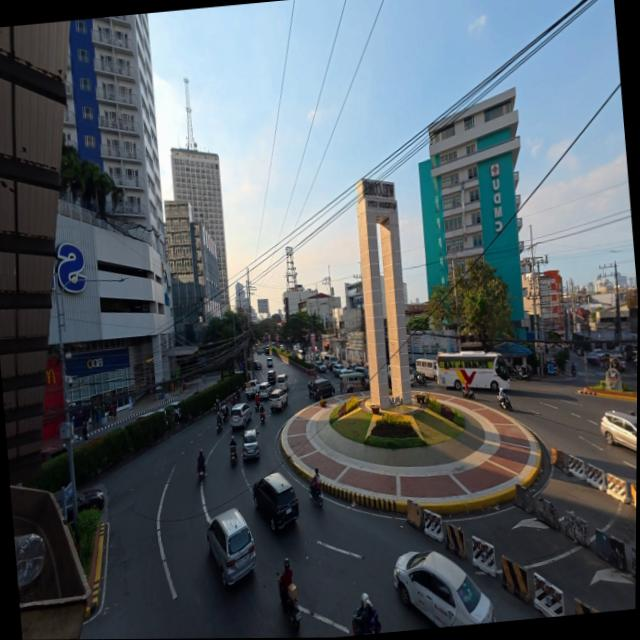Jeepneys: (339, 371, 366, 392)
bus: (436, 351, 508, 390)
car: (393, 551, 494, 627), (206, 508, 255, 585), (252, 473, 298, 530), (600, 410, 636, 451), (75, 488, 104, 512), (229, 403, 251, 428), (242, 430, 259, 460), (310, 379, 334, 400), (41, 446, 66, 463), (268, 389, 287, 411), (166, 401, 180, 422), (258, 382, 272, 400), (331, 362, 347, 377), (608, 356, 624, 370), (266, 368, 277, 386), (355, 366, 368, 378), (314, 362, 325, 373), (253, 360, 261, 370), (279, 343, 285, 350), (266, 359, 271, 367), (263, 348, 268, 355)
motorcycle: (278, 584, 300, 630), (308, 486, 322, 507), (351, 608, 362, 634), (496, 394, 511, 411), (462, 386, 476, 400), (229, 445, 238, 465), (197, 465, 206, 483), (516, 369, 530, 380), (416, 373, 425, 386), (215, 421, 221, 434), (235, 389, 241, 401), (570, 366, 576, 377), (259, 411, 264, 424), (628, 411, 635, 416)
trucks: (244, 380, 258, 399)
vans: (415, 359, 436, 381), (322, 351, 339, 371), (276, 375, 287, 392)
